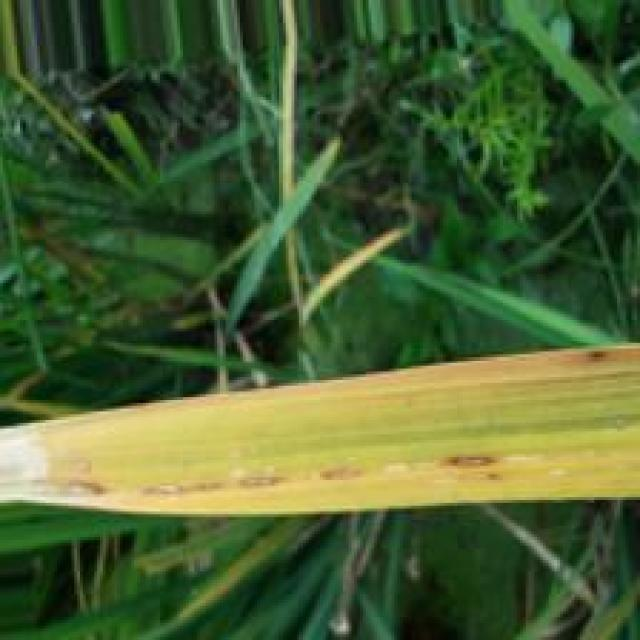Narrow_Brown_Leaf_Spot: (0, 418, 503, 507)
